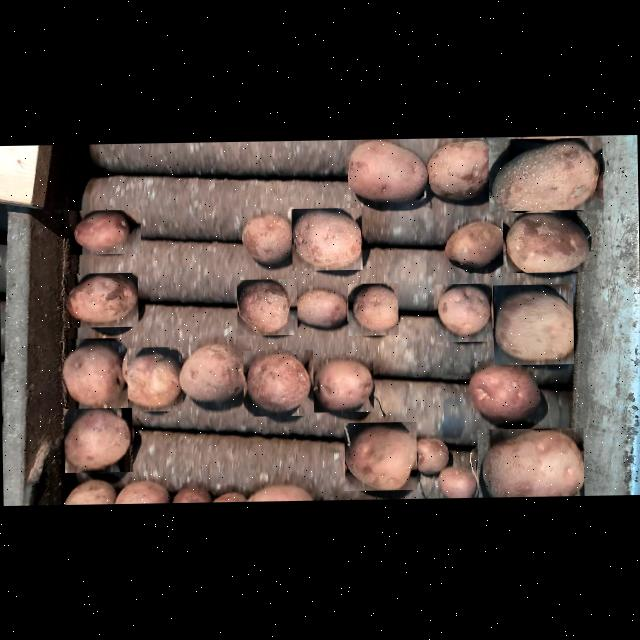Diseased-fungal potato: (488, 137, 603, 211), (477, 428, 584, 498), (492, 284, 574, 365), (502, 211, 591, 273), (344, 140, 425, 208), (344, 422, 417, 491), (242, 349, 314, 416), (464, 364, 544, 424), (176, 340, 248, 406), (61, 338, 128, 408), (291, 208, 362, 270), (64, 408, 132, 472), (424, 138, 494, 198), (63, 272, 138, 328), (121, 346, 182, 412), (308, 355, 374, 412), (442, 218, 509, 272), (236, 278, 298, 336), (433, 283, 492, 342), (68, 209, 141, 254), (236, 212, 293, 266), (296, 282, 350, 332), (348, 282, 398, 336), (413, 434, 452, 474), (438, 464, 480, 496)
